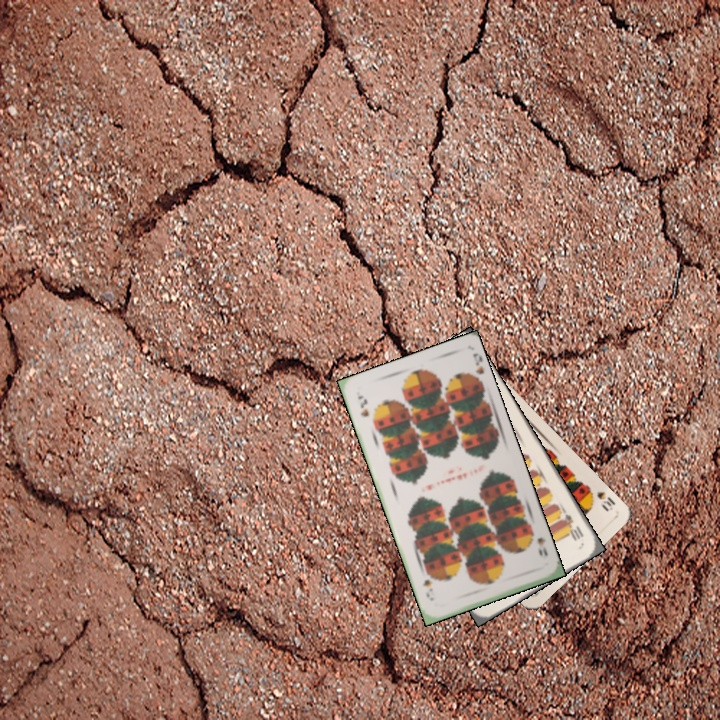E10: (559, 510, 586, 543)
S10: (584, 483, 618, 514)
S9: (525, 527, 550, 559), (354, 391, 372, 420)
